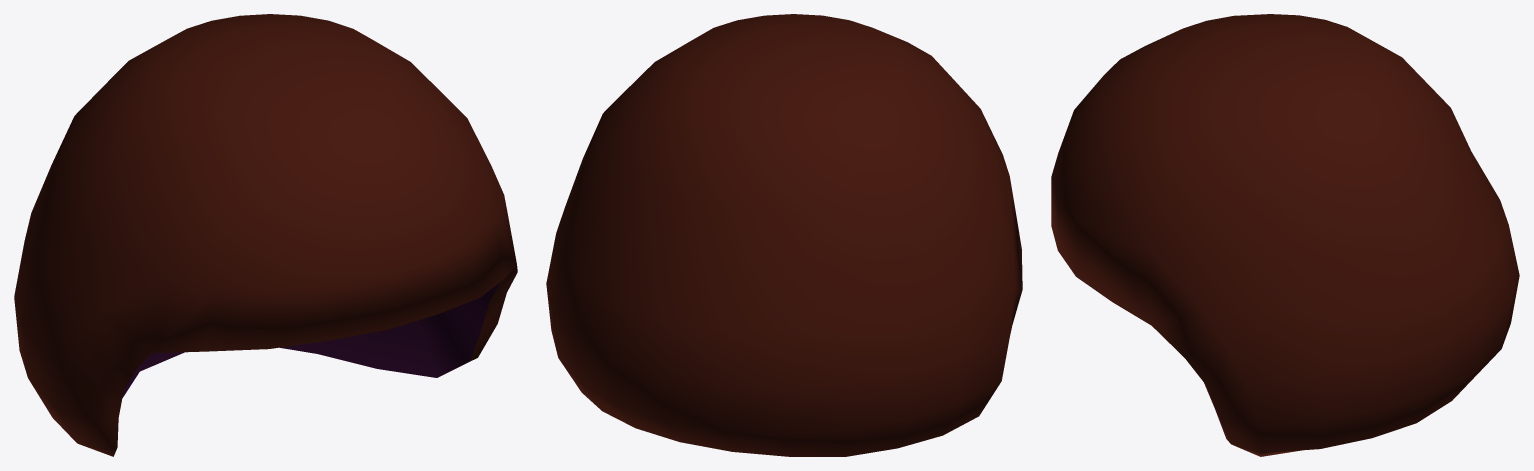
File: parts_hair_04.FBX
3 renders of one model, left to right at view 1: azimuth 30°, elevation 25°; view 2: azimuth 150°, elevation 25°; view 3: azimuth 270°, elevation 25°, orthographic. The views are drawn at different scales.
Parts seen in each view (by area): view 1: hair; view 2: hair; view 3: hair.
Part boxes in pixels (left/top/right/bottom): hair: left=14, top=14, right=517, bottom=456; hair: left=546, top=14, right=1022, bottom=456; hair: left=1051, top=14, right=1519, bottom=456.
Size of the model in its own units: 32.89 by 26.56 by 32.47.
